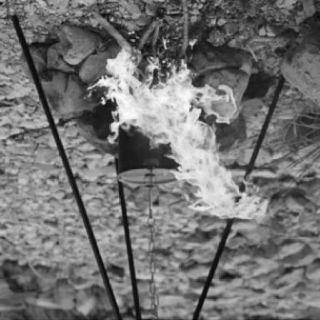Fire: (72, 42, 294, 245)
